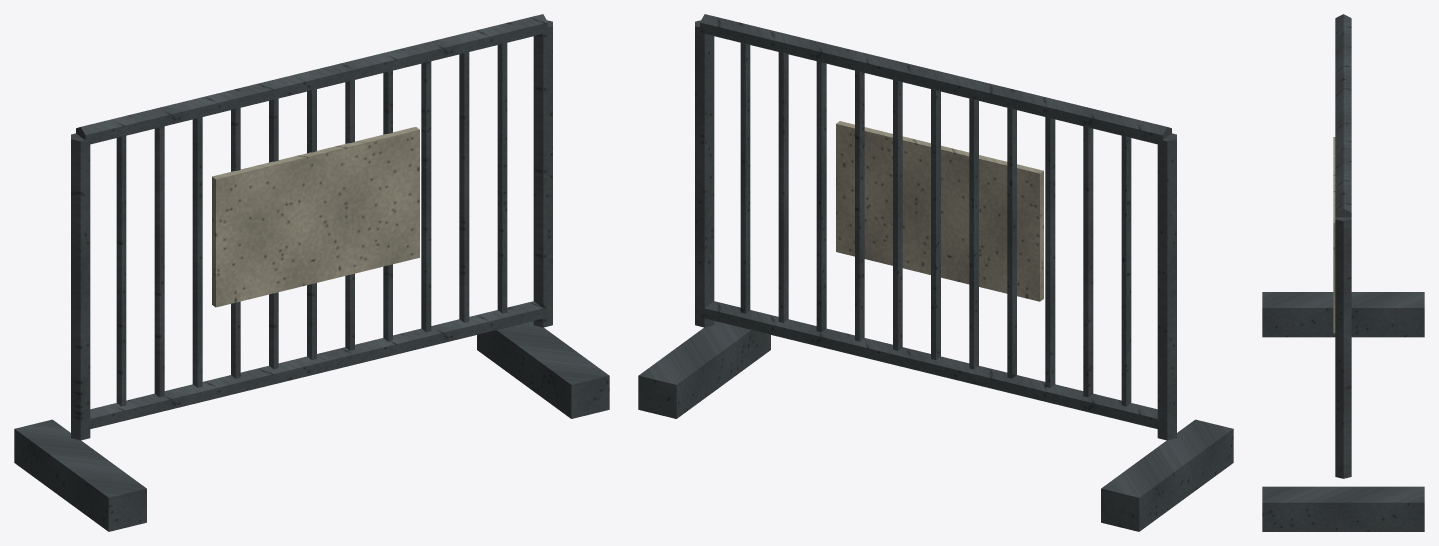
Rendered from PROP-31AAA08519C0_lod2.glb.
3 views of the same model, side by side, from view 1: azimuth 30°, elevation 25°; view 2: azimuth 150°, elevation 25°; view 3: azimuth 270°, elevation 25° (orthographic). The views are drawn at different scales.
Parts seen in each view (by area): view 1: road_closed_plate.001, crowd_barrier_pickets.001, crowd_barrier_rails.001, crowd_barrier_feet.001, crowd_barrier_sides.001; view 2: crowd_barrier_pickets.001, road_closed_plate.001, crowd_barrier_rails.001, crowd_barrier_feet.001, crowd_barrier_sides.001; view 3: crowd_barrier_feet.001, crowd_barrier_sides.001, crowd_barrier_rails.001, road_closed_plate.001.
Part boxes in pixels (x1,y1,x2,y2): road_closed_plate.001: [212, 127, 419, 307]; crowd_barrier_pickets.001: [116, 42, 507, 406]; crowd_barrier_rails.001: [76, 14, 547, 428]; crowd_barrier_feet.001: [14, 321, 609, 531]; crowd_barrier_sides.001: [71, 20, 552, 440]; crowd_barrier_pickets.001: [740, 42, 1131, 406]; road_closed_plate.001: [836, 121, 1043, 301]; crowd_barrier_rails.001: [700, 14, 1171, 429]; crowd_barrier_feet.001: [638, 321, 1233, 531]; crowd_barrier_sides.001: [695, 20, 1176, 440]; crowd_barrier_feet.001: [1262, 292, 1424, 531]; crowd_barrier_sides.001: [1335, 217, 1351, 478]; crowd_barrier_rails.001: [1335, 14, 1351, 217]; road_closed_plate.001: [1333, 137, 1335, 333].
Size of the model in its own units: 1.84 by 1.28 by 0.6.
2 materials, 2 textured.
